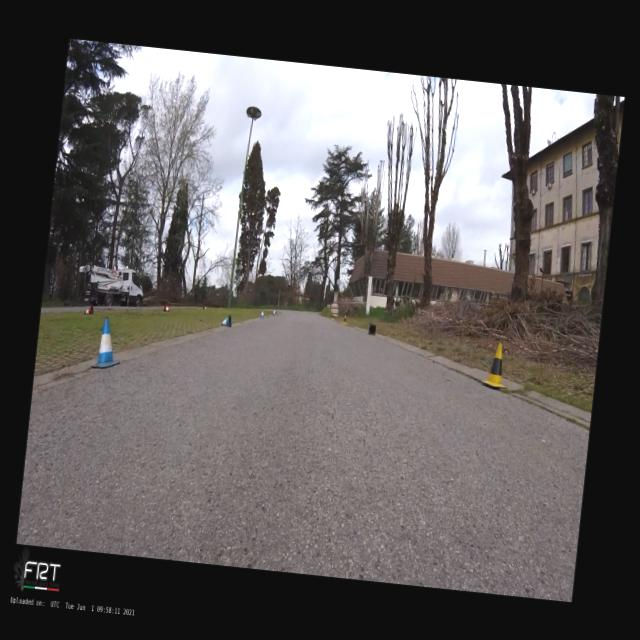blue_cone: (90, 316, 124, 370), (220, 314, 232, 326), (260, 309, 264, 319), (272, 308, 275, 315)
orange_cone: (84, 304, 94, 314), (163, 304, 170, 312), (202, 306, 206, 310)
unknown_cone: (368, 324, 377, 336)
yellow_cone: (480, 341, 510, 388), (342, 314, 348, 324), (331, 314, 334, 320)
